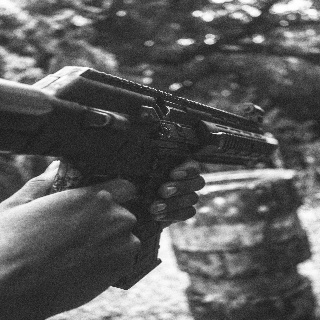rifle: (1, 62, 279, 292)
